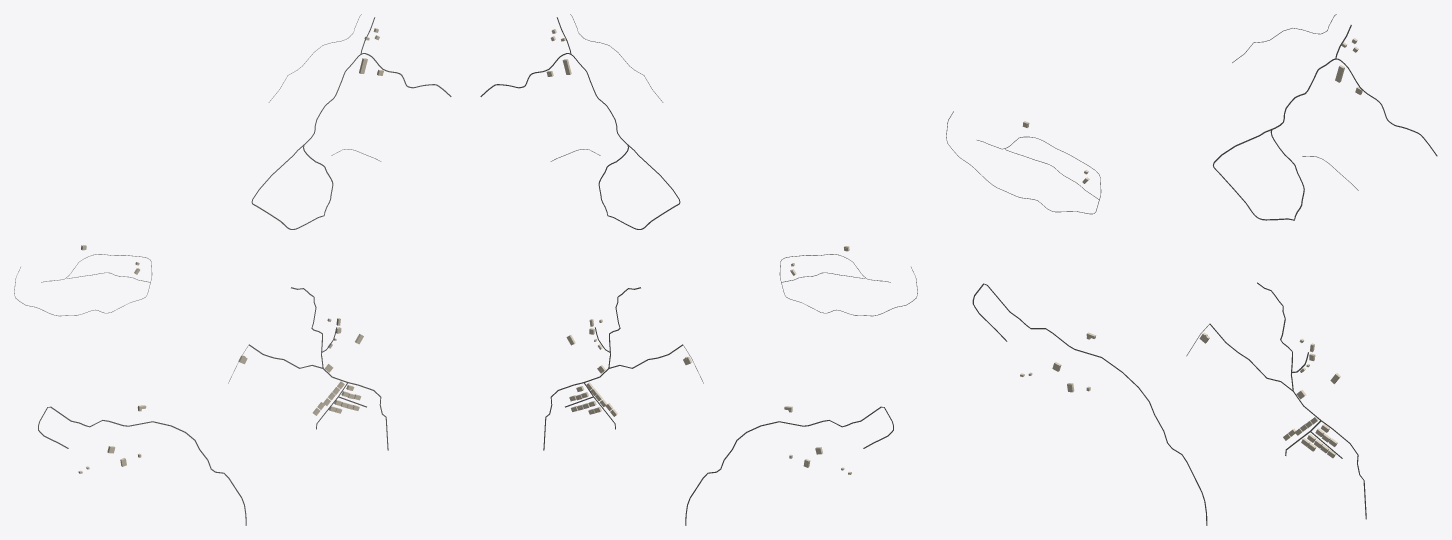
The model's file is historic-palestine-10_22_3519_3167.glb.
3 views of the same model, side by side, from view 1: azimuth 30°, elevation 25°; view 2: azimuth 150°, elevation 25°; view 3: azimuth 330°, elevation 25° (orthographic). The views are drawn at different scales.
Visible parts, largest first — view 1: Road .004, Road .012; view 2: Road .004, Road .012; view 3: Road .004, Road .012.
Part boxes in pixels (x1,y1,x2,y2): Road .004: (251,53,451,229); Road .012: (38,406,246,525); Road .004: (480,53,680,229); Road .012: (685,406,893,525); Road .004: (1213,58,1437,220); Road .012: (972,283,1207,525).
Size of the model in its own units: 1342 by 1418 by 8.7.
